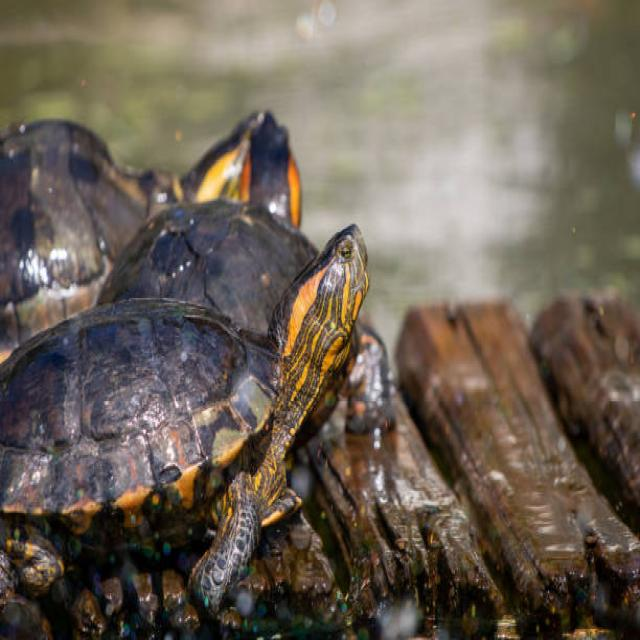terrapin: (1, 283, 272, 460), (288, 215, 423, 464), (185, 496, 283, 637), (2, 516, 95, 602)
